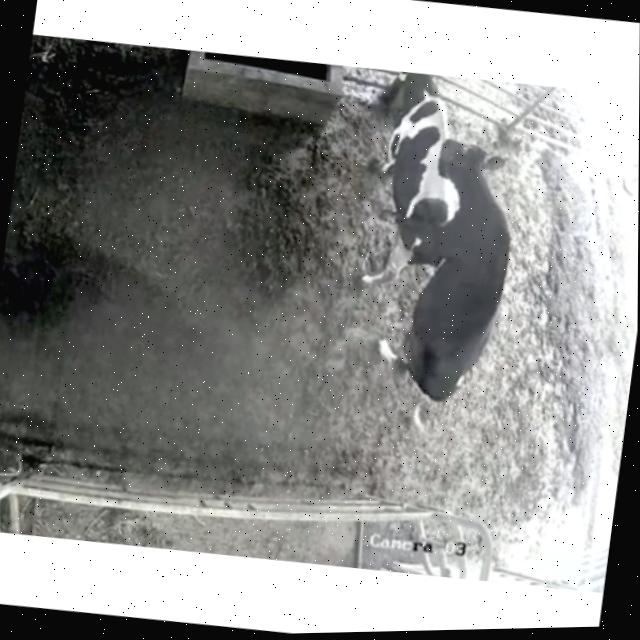ride: (352, 117, 536, 424)
